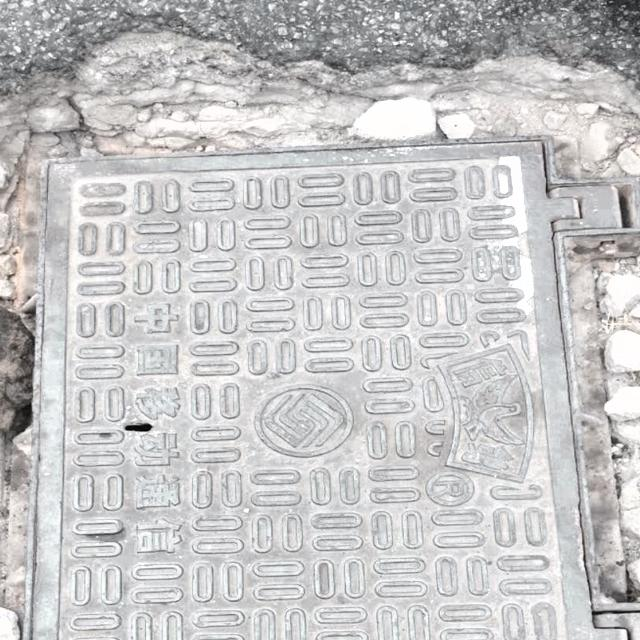circle: (0, 87, 640, 640)
